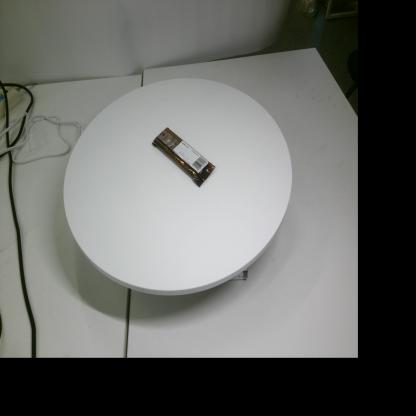Chocolate: (152, 127, 216, 188)
